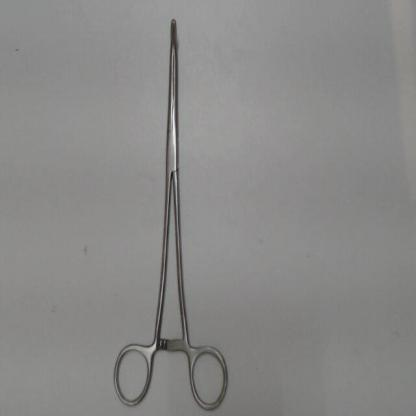Lahey Forceps: (110, 14, 230, 411)
